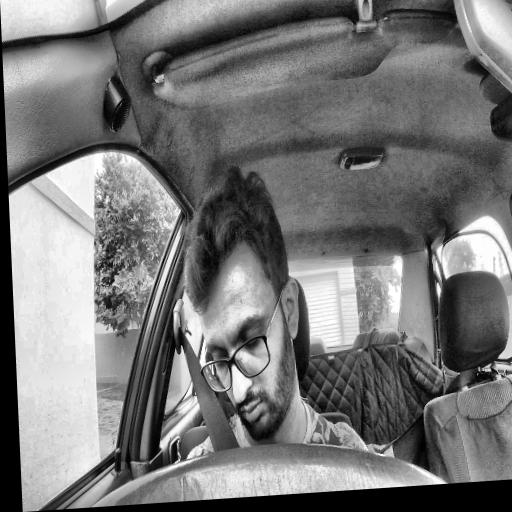drowsy: (178, 160, 305, 450)
